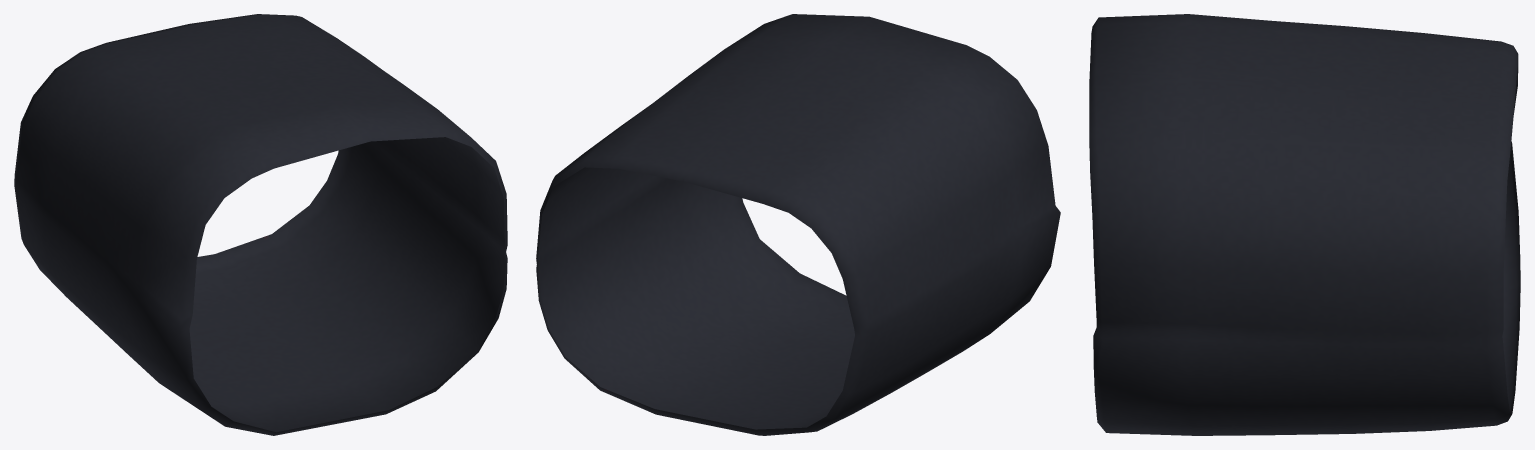
Rendered from R_WRIST_Y.obj.
The picture shows the model from 3 angles, left to right: view 1: azimuth 30°, elevation 25°; view 2: azimuth 150°, elevation 25°; view 3: azimuth 270°, elevation 25°; orthographic projection. The views are drawn at different scales.
Parts seen in each view (by area): view 1: R_WRIST_Y-469-FACES; view 2: R_WRIST_Y-469-FACES; view 3: R_WRIST_Y-469-FACES.
Boxes of the visible parts, x1,y1,x2,y2 form: R_WRIST_Y-469-FACES: (14,14,507,435); R_WRIST_Y-469-FACES: (536,14,1060,435); R_WRIST_Y-469-FACES: (1089,14,1520,435).
Bounding box in the file's own units: 0.0744 × 0.0591 × 0.0696.
Materials: 1 (1 with a texture image).
